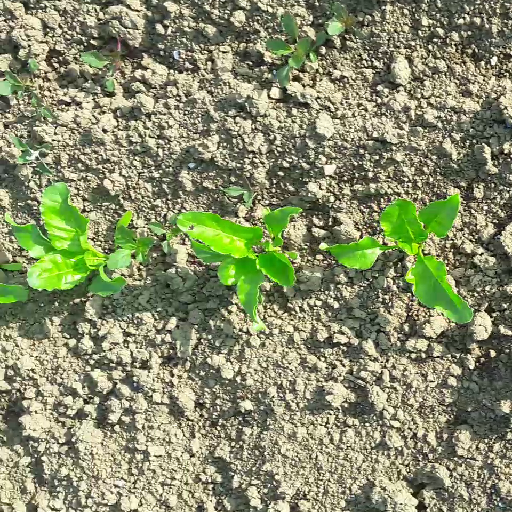sugarbeet: (319, 191, 475, 327), (176, 204, 304, 327), (1, 183, 132, 299)
weed: (261, 12, 325, 88), (1, 58, 59, 121), (76, 33, 131, 97), (104, 223, 156, 271), (8, 135, 53, 178), (222, 172, 266, 207), (324, 3, 358, 38), (146, 211, 183, 241)
